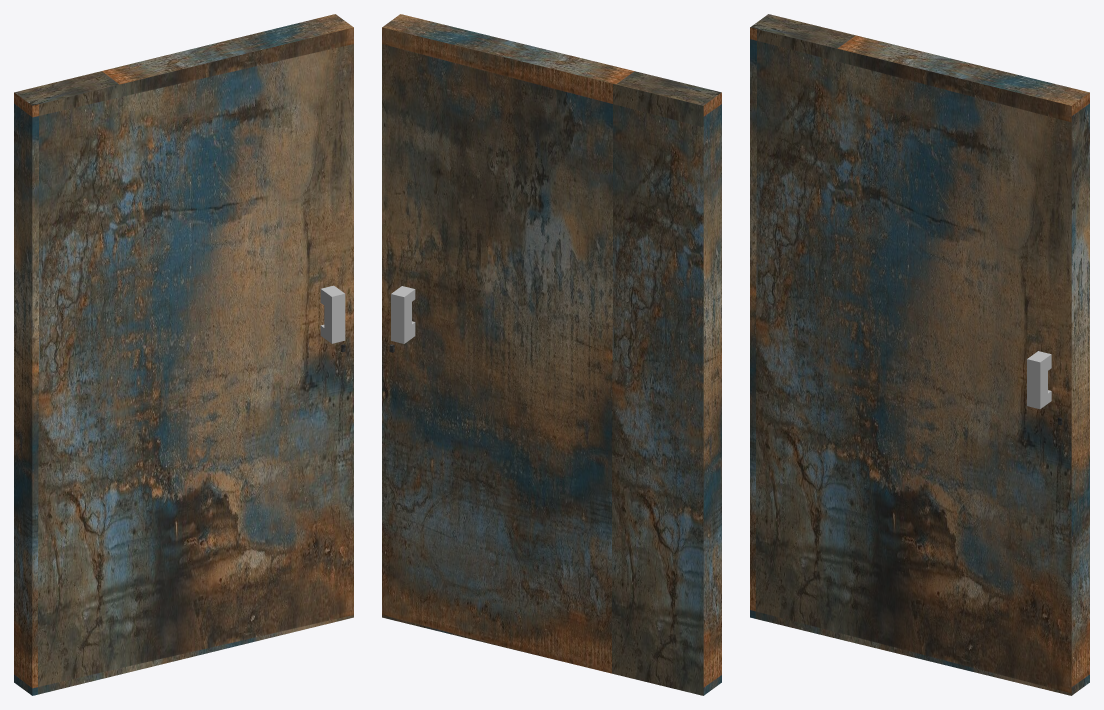
Rendered from door.fbx.
3 views of the same model, side by side, from view 1: azimuth 30°, elevation 25°; view 2: azimuth 150°, elevation 25°; view 3: azimuth 330°, elevation 25° (orthographic).
Visible parts, largest first — view 1: Cube.001; view 2: Cube.001; view 3: Cube.001.
Boxes of the visible parts, x1,y1,x2,y2 form: Cube.001: [14, 14, 353, 695]; Cube.001: [382, 14, 721, 695]; Cube.001: [750, 14, 1089, 695].
Bounding box in the file's own units: 191 × 334 × 41.87.
